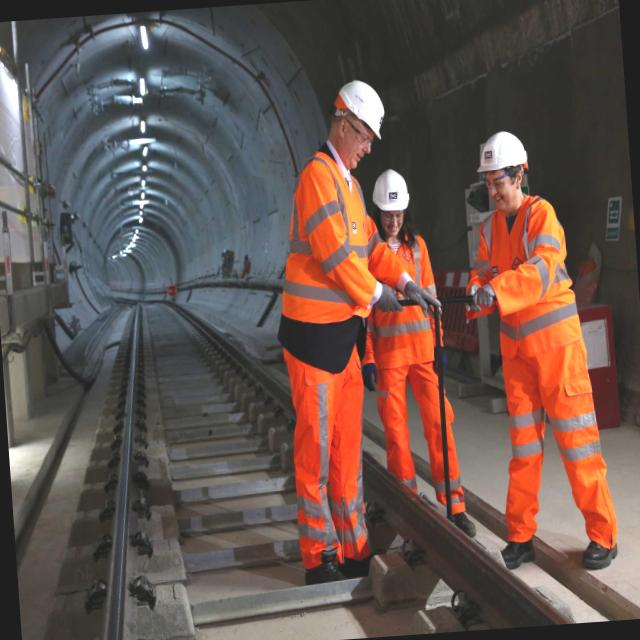helmet: (325, 78, 390, 142), (472, 125, 528, 184), (369, 167, 410, 214)
vest: (484, 192, 586, 406), (274, 167, 372, 346), (368, 236, 442, 384)
